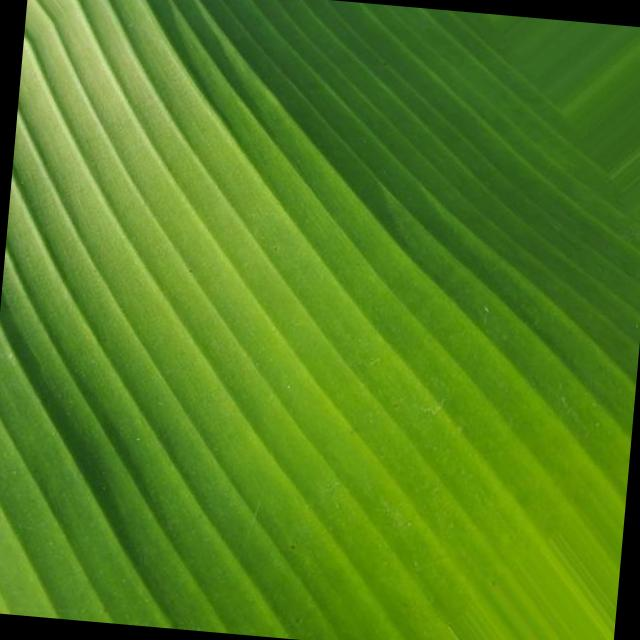Banana_Healthy: (115, 117, 584, 545)
